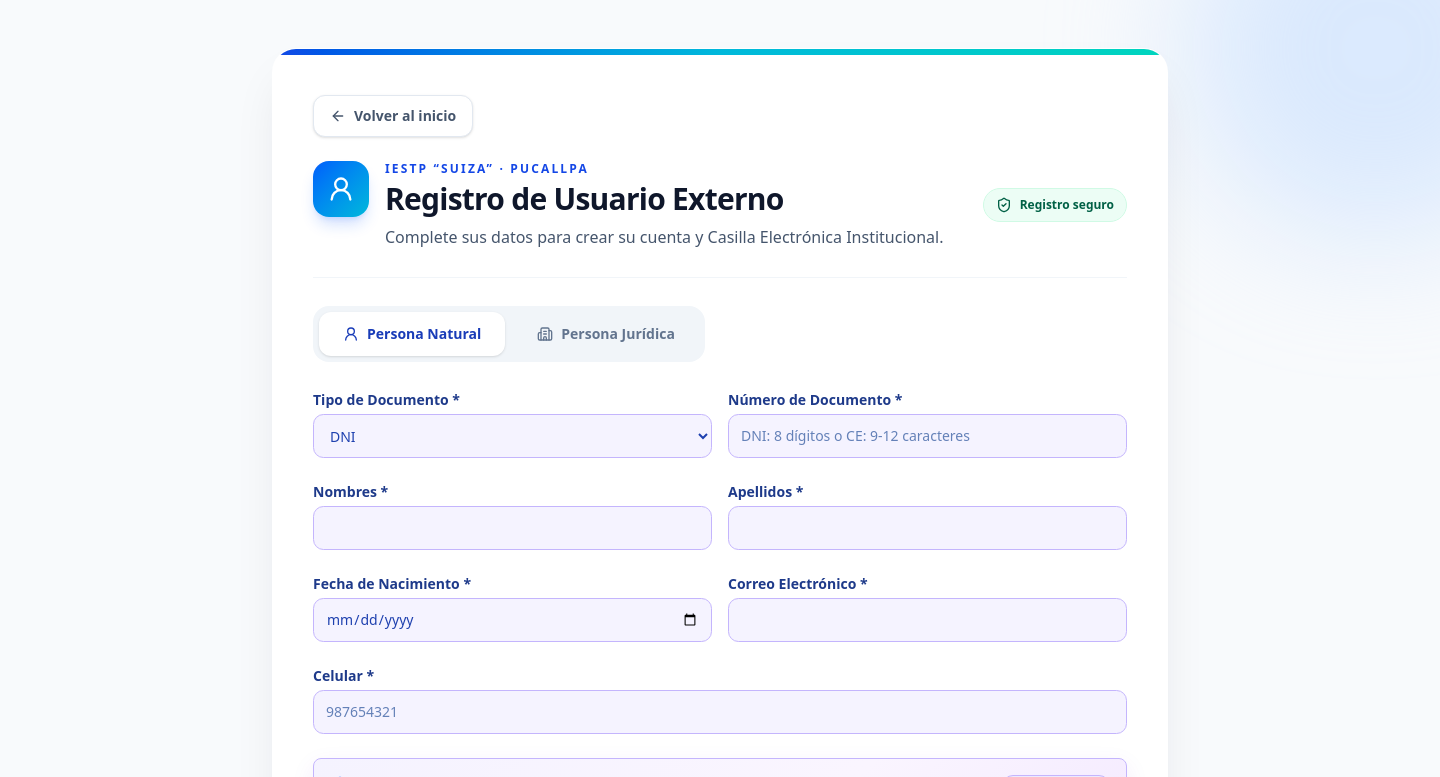
Suite de Pruebas de Formularios de Registro Ciudadano (ENT-M01-01 / ENT-M01-04 / ENT-M01-05) › a) RegistroCiudadanoPage: el conmutador role="tablist" alterna entre Persona Natural y Persona Jurídica sin recargar, y cambia los campos visibles
The width and height of the screenshot is (1440, 777).
expect the element named "Tipo de persona" is shown: met, box top-left (313, 306), bottom-right (705, 362)
expect the date field labelled "Fecha de Nacimiento *" is shown: met, box top-left (313, 598), bottom-right (712, 642)
Click the tab "Persona Jurídica" at x=606, y=334, box top-left (513, 312), bottom-right (699, 356)
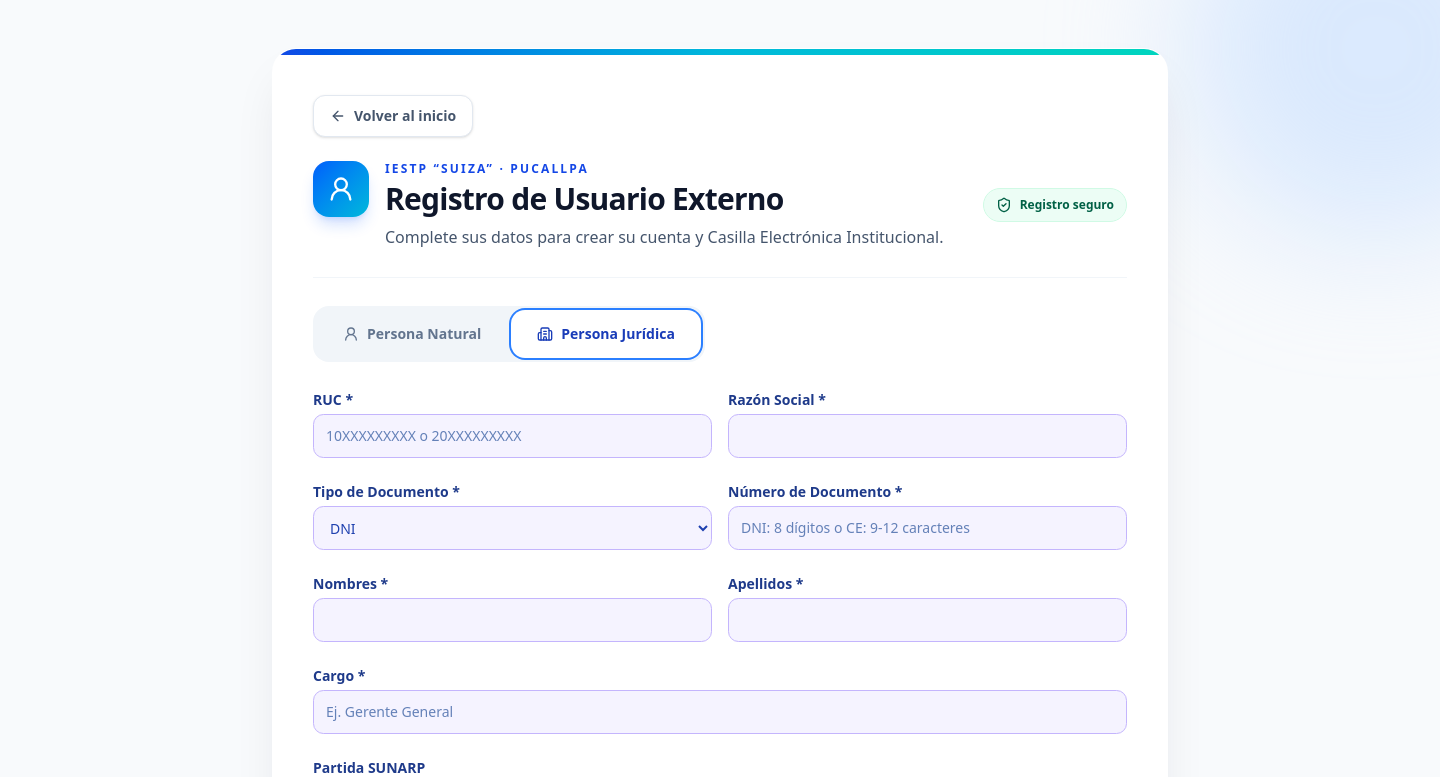
expect the field labelled "RUC *" is shown: met, box top-left (313, 414), bottom-right (712, 458)
expect the field labelled "Razón Social *" is shown: met, box top-left (728, 414), bottom-right (1127, 458)
expect the label labelled "Fecha de Nacimiento *" is gone: met
Click the tab "Persona Natural" at x=412, y=334, box top-left (319, 312), bottom-right (505, 356)
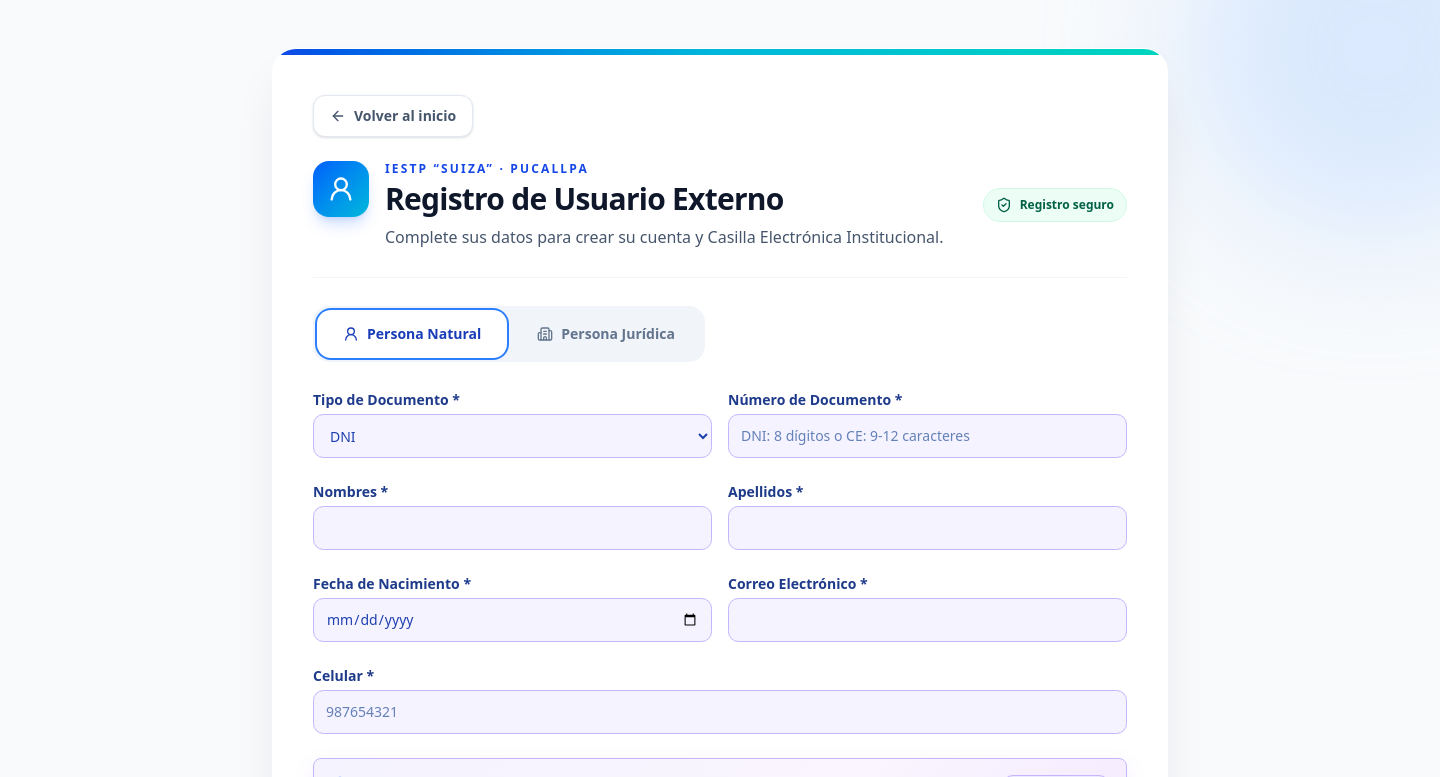
expect the date field labelled "Fecha de Nacimiento *" is shown: met, box top-left (313, 598), bottom-right (712, 642)
expect the label labelled "RUC *" is gone: met
